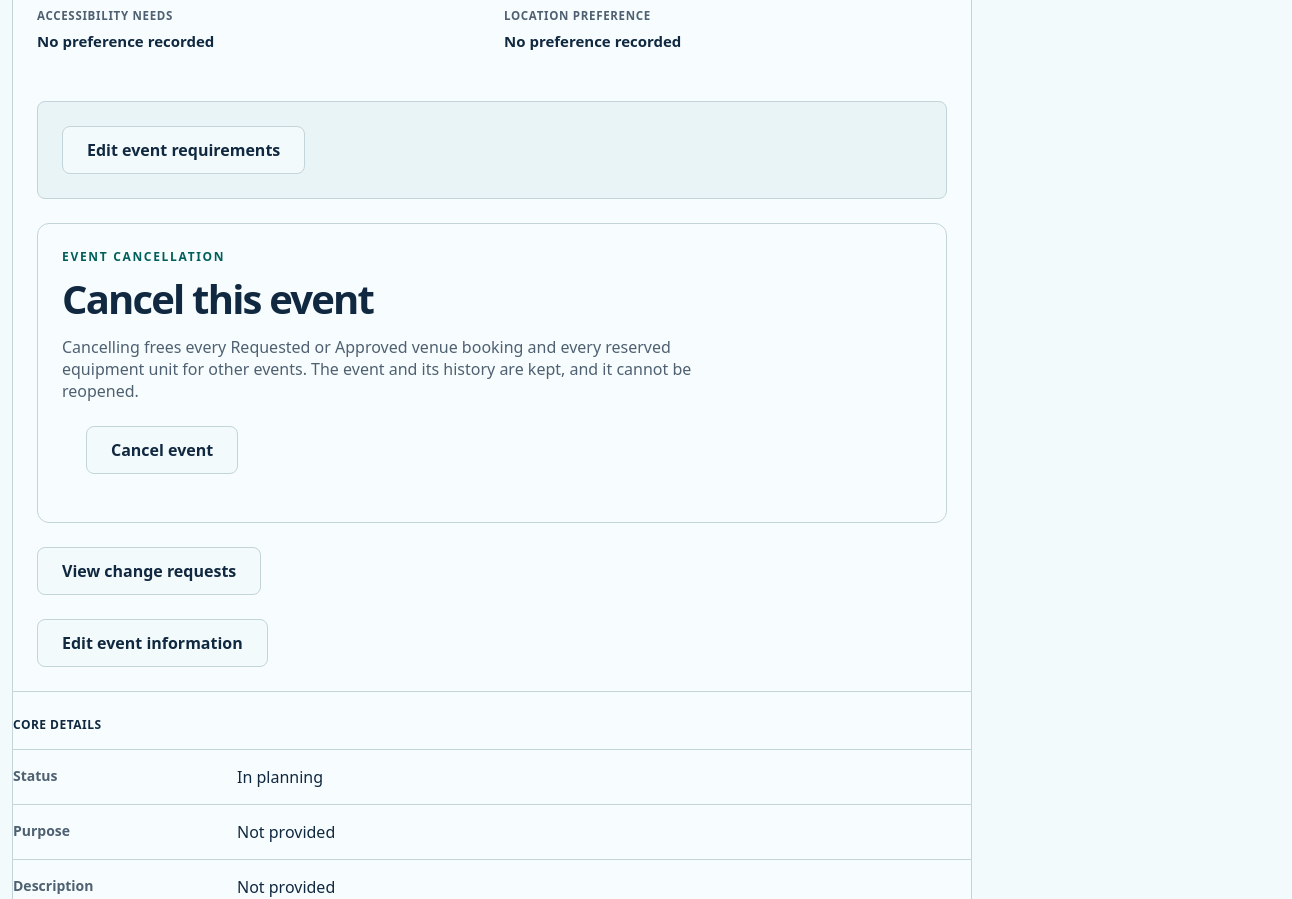
Test: [TC-SPL-86-40] keeps the event on Keep event and shows a refusal
The image size is (1292, 899).
(page scrolled)
Click the button "Cancel event" at (162, 450), box [86,426,238,474]
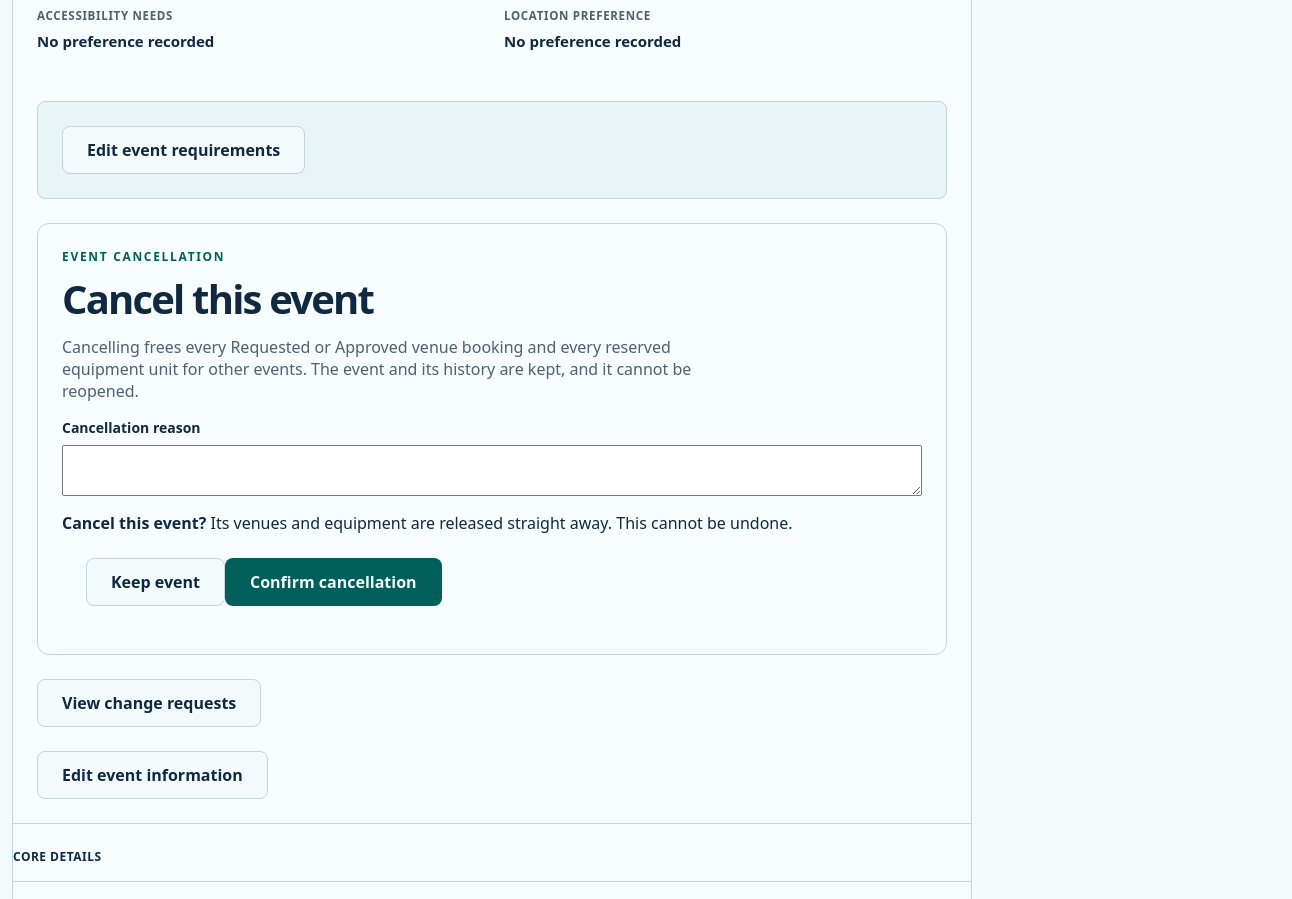
Click the button "Keep event" at (156, 582), box [86,558,225,606]
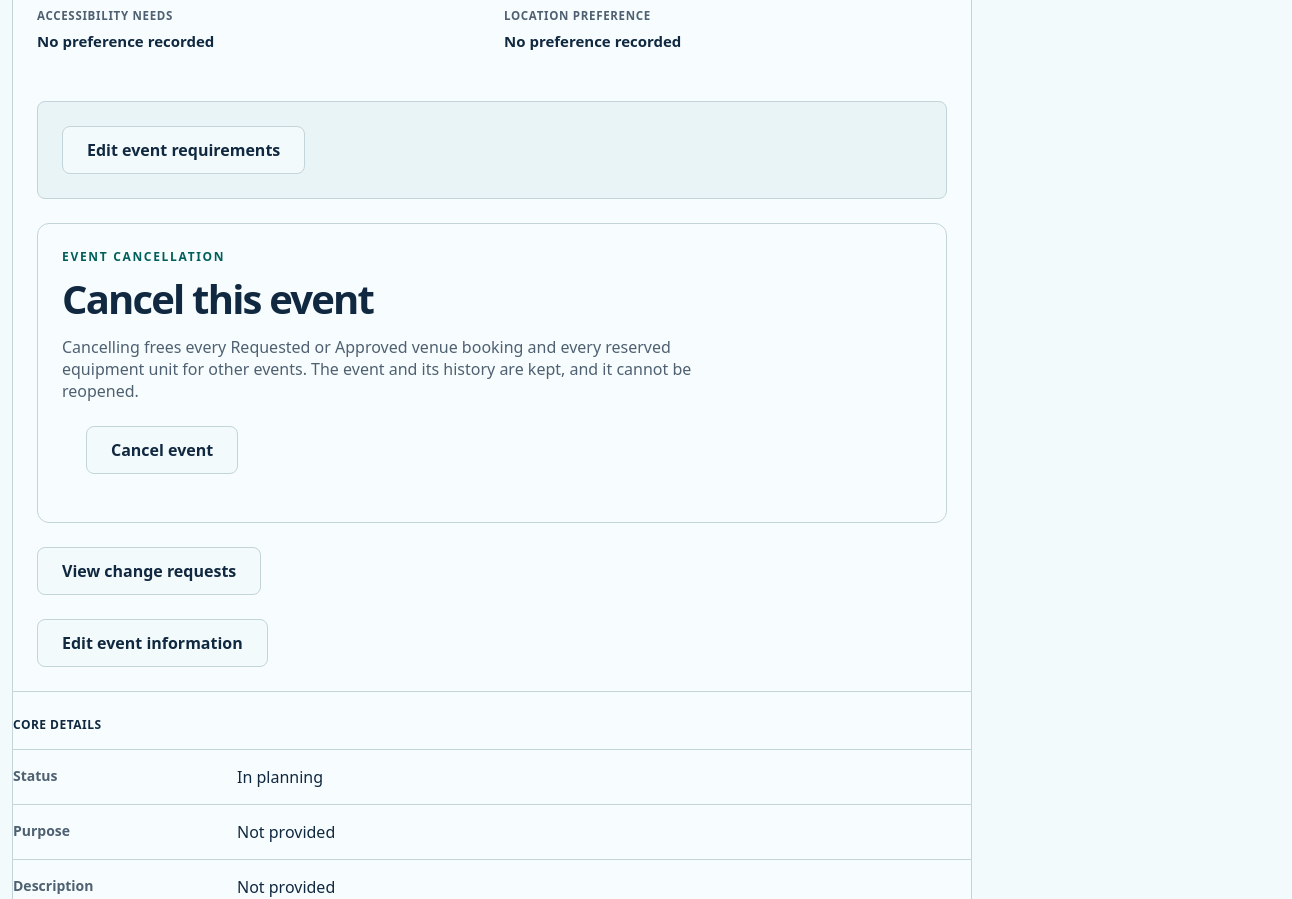
Click the button "Cancel event" at (162, 450), box [86,426,238,474]
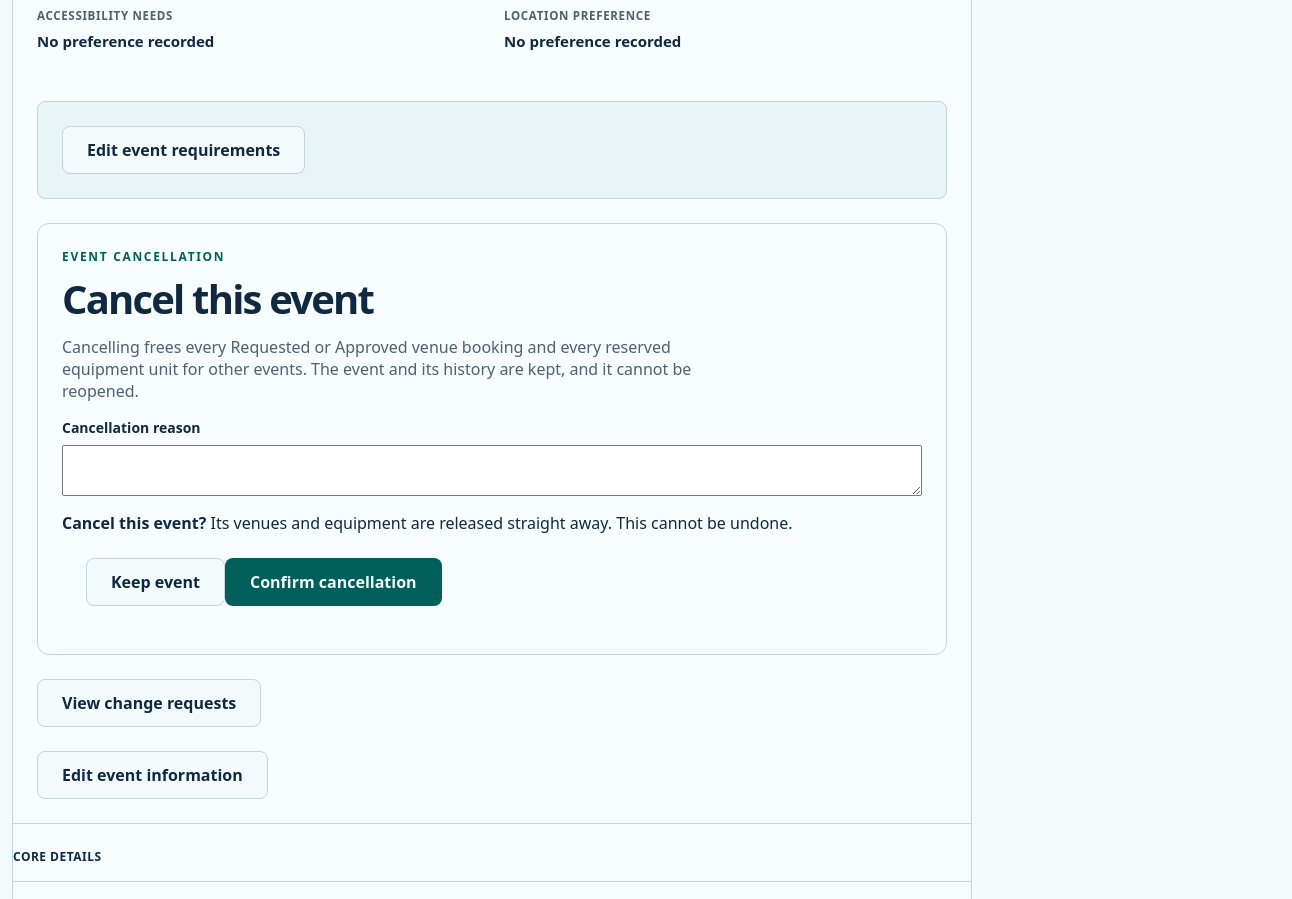
Type "Duplicate click." into the text box labelled "Cancellation reason" at (492, 471), box [62,445,922,496]
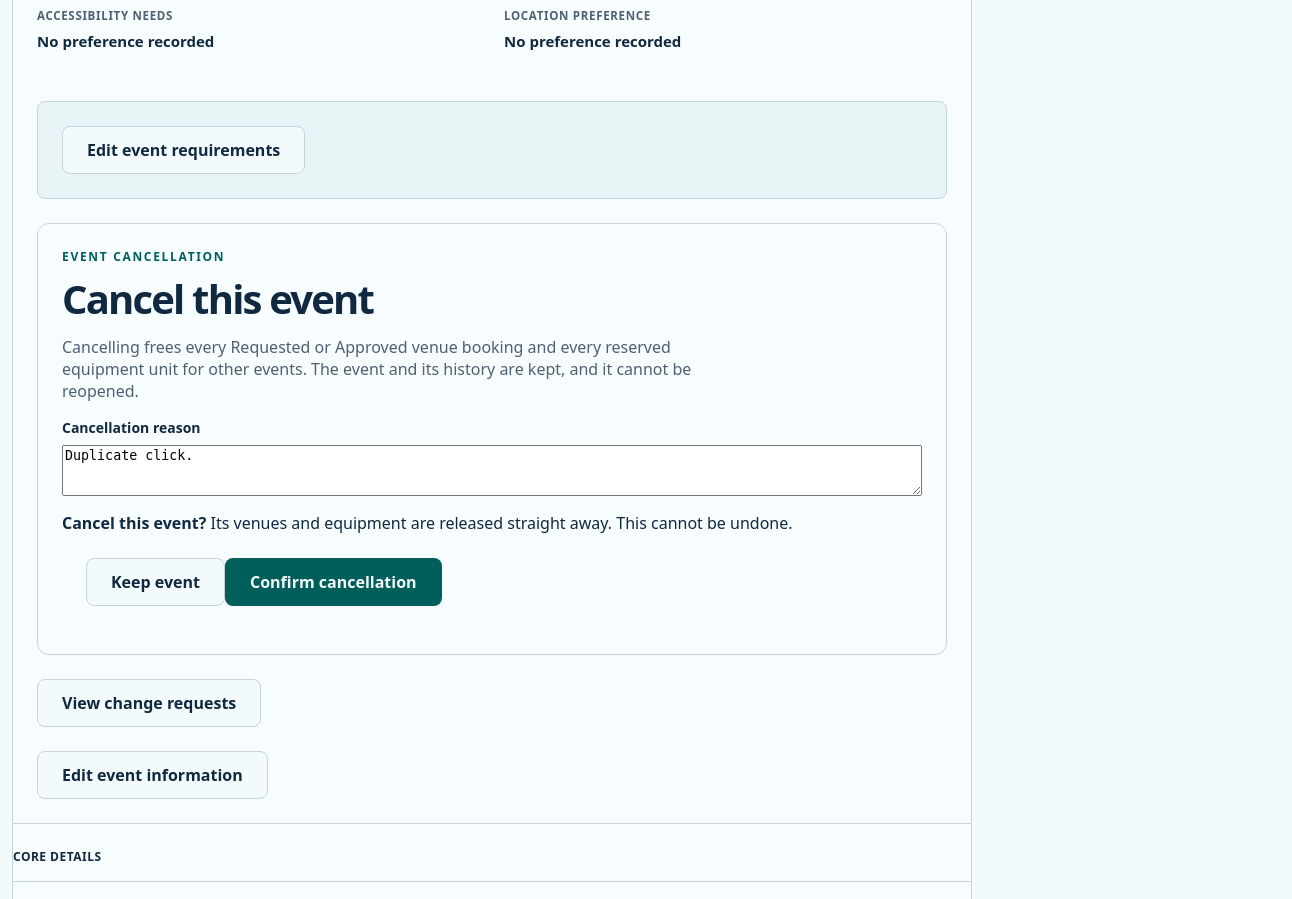
Click the button "Confirm cancellation" at (333, 582), box [225,558,442,606]
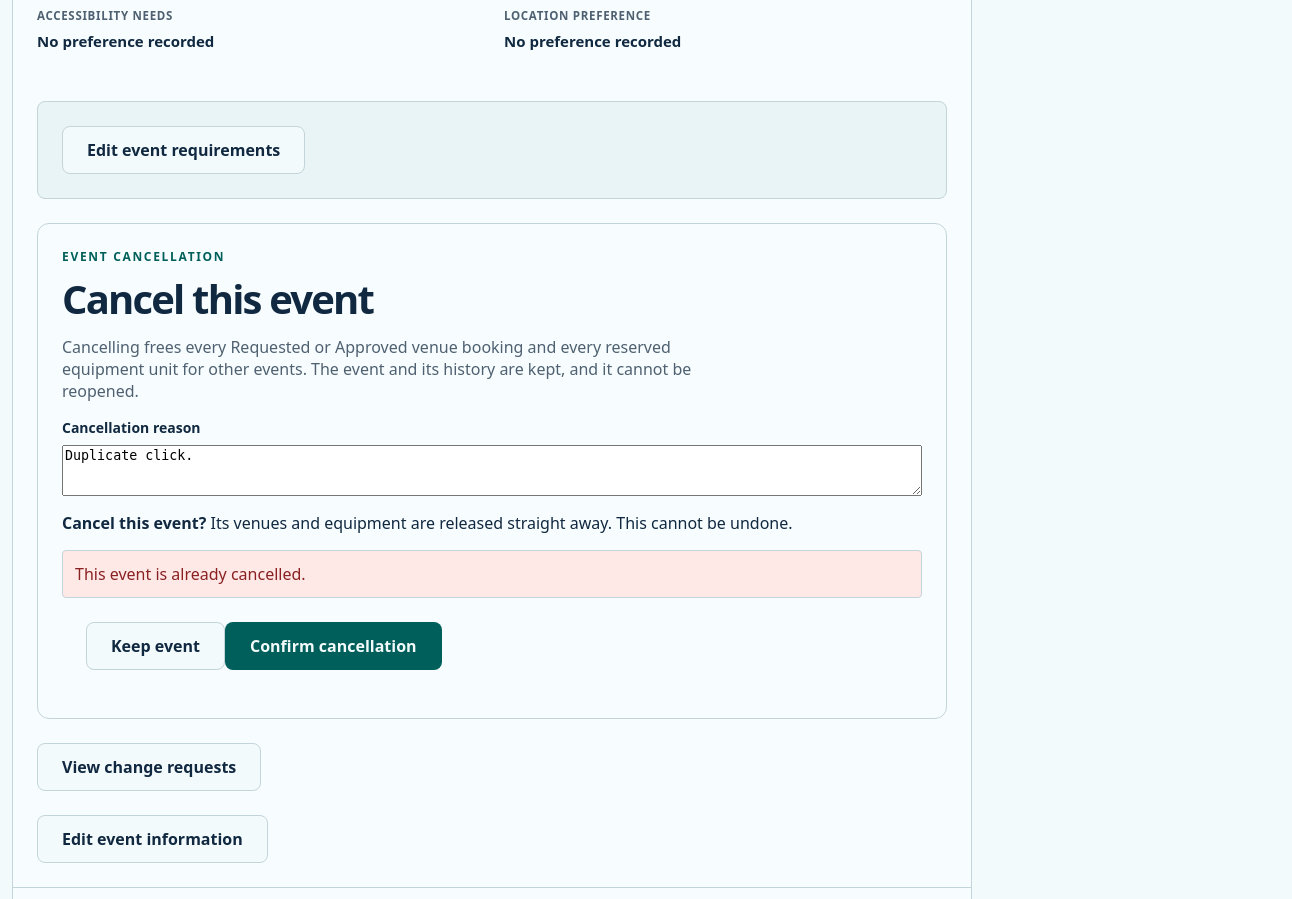
Check: the message reads "This event is already cancelled.", box [75,563,306,585]
